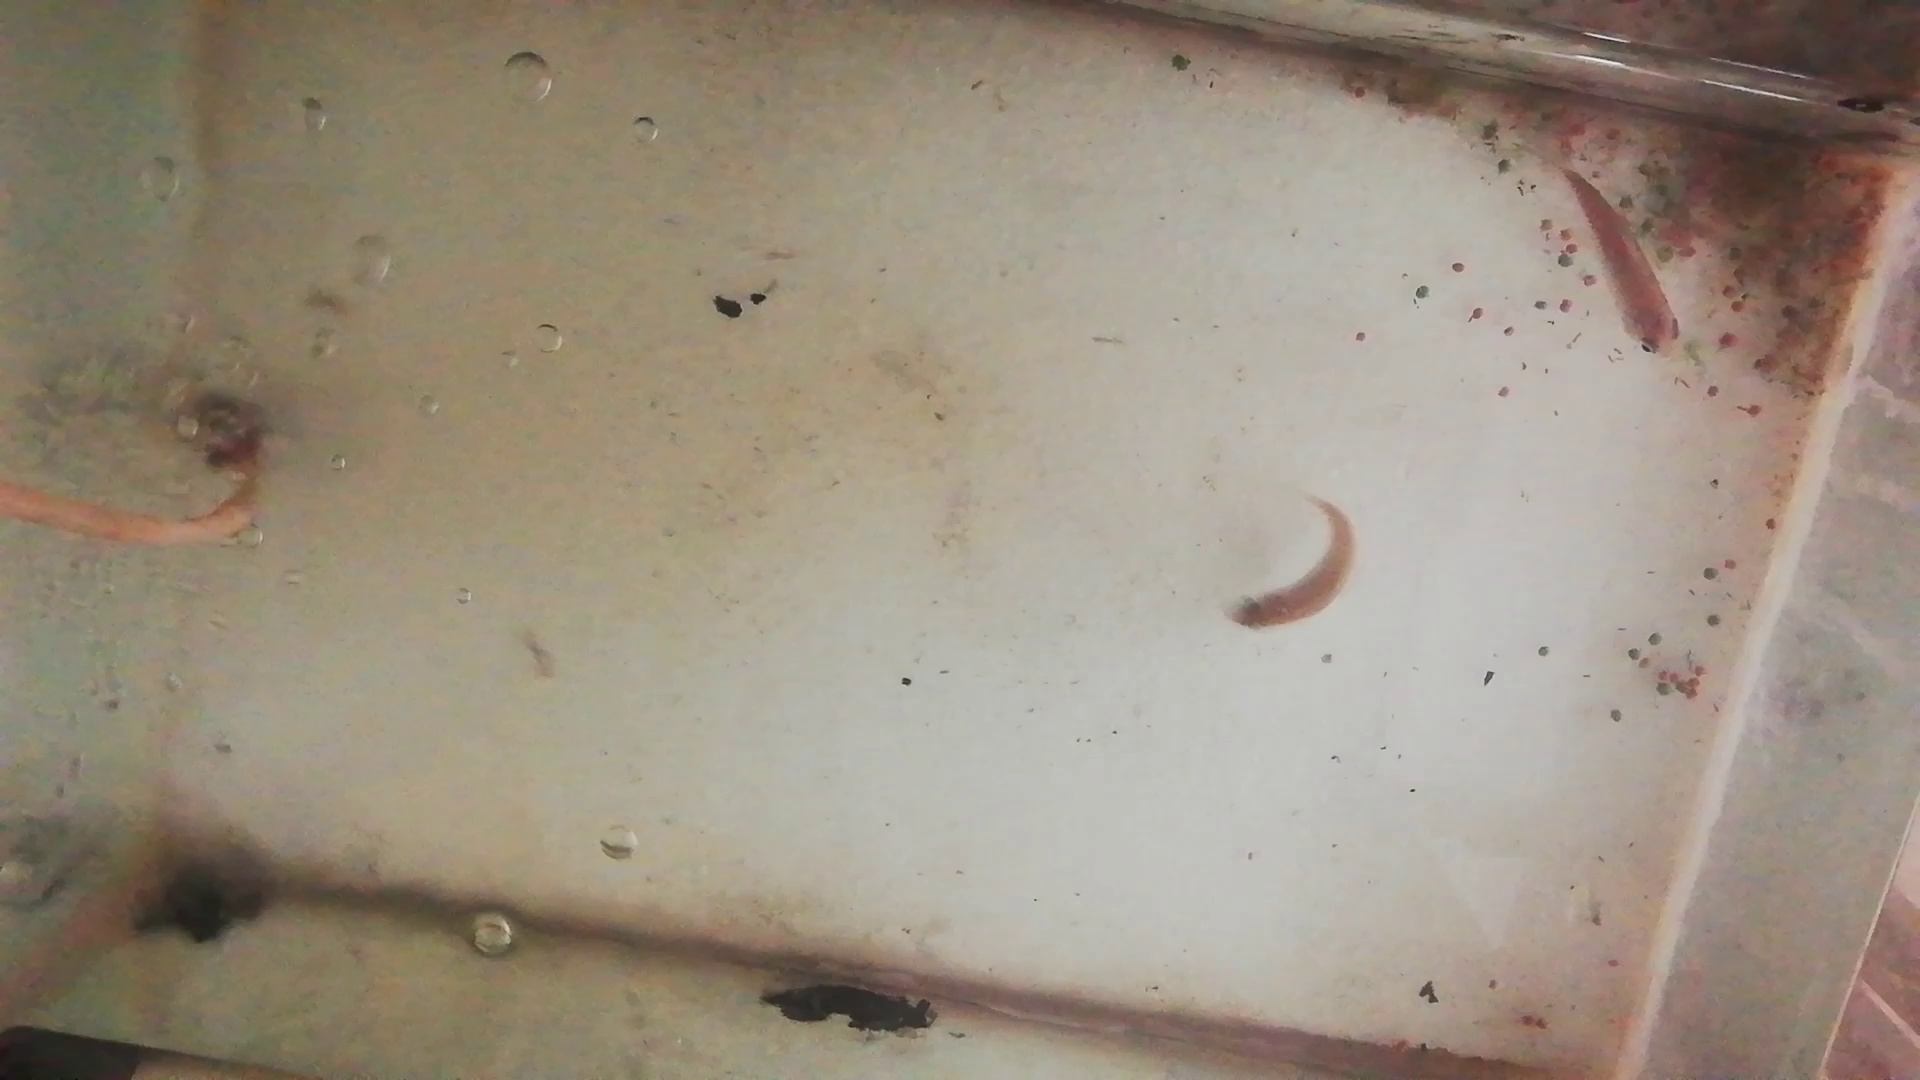fish: (1557, 160, 1687, 359), (1224, 504, 1361, 626)
